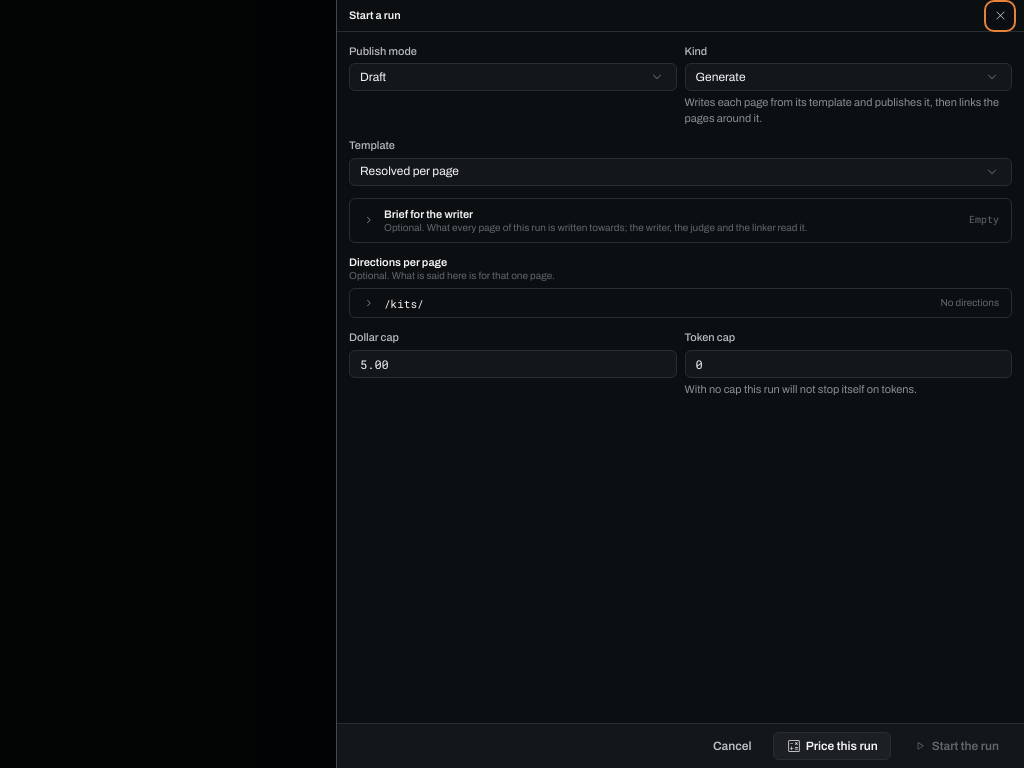
Test: the run's brief › is folded away until it is asked for
expect the text "Goal" is not shown: met
expect the text "Empty" is shown: met, box [969,214,999,226]
Click the button "Brief for the writer": (680, 220) [350,199,1011,242]
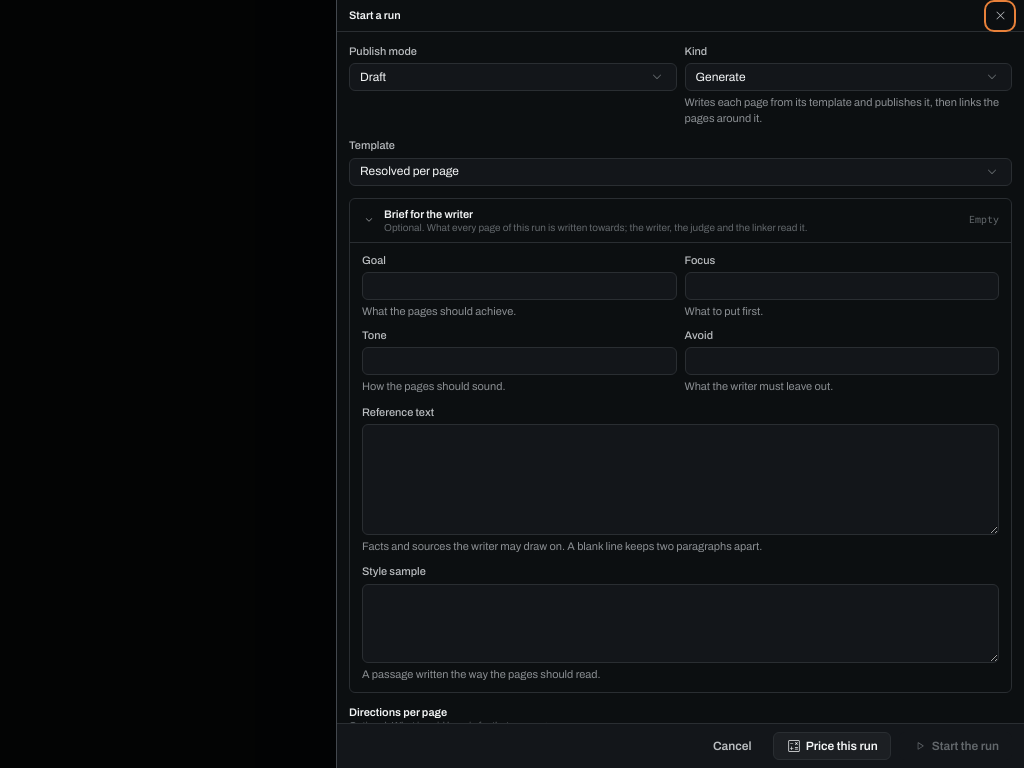
expect the field labelled "Goal" is shown: met, box [362,272,676,300]
expect the text box labelled "Style sample" is shown: met, box [362,584,999,663]
